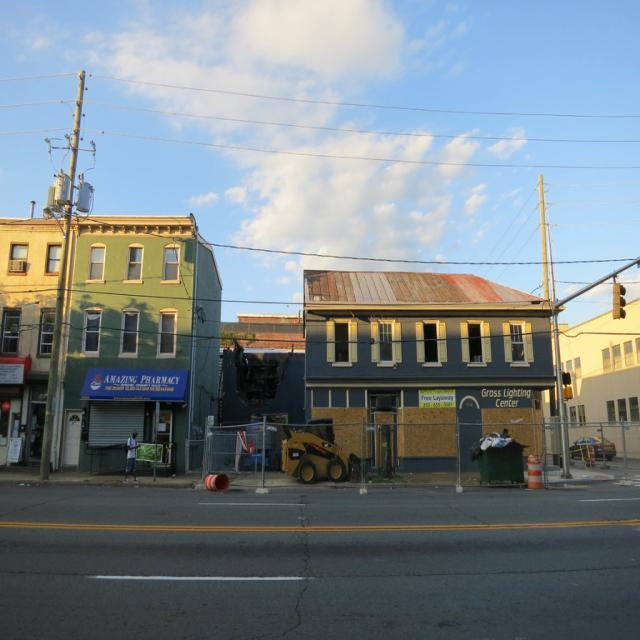off traffic light: (613, 282, 627, 321)
